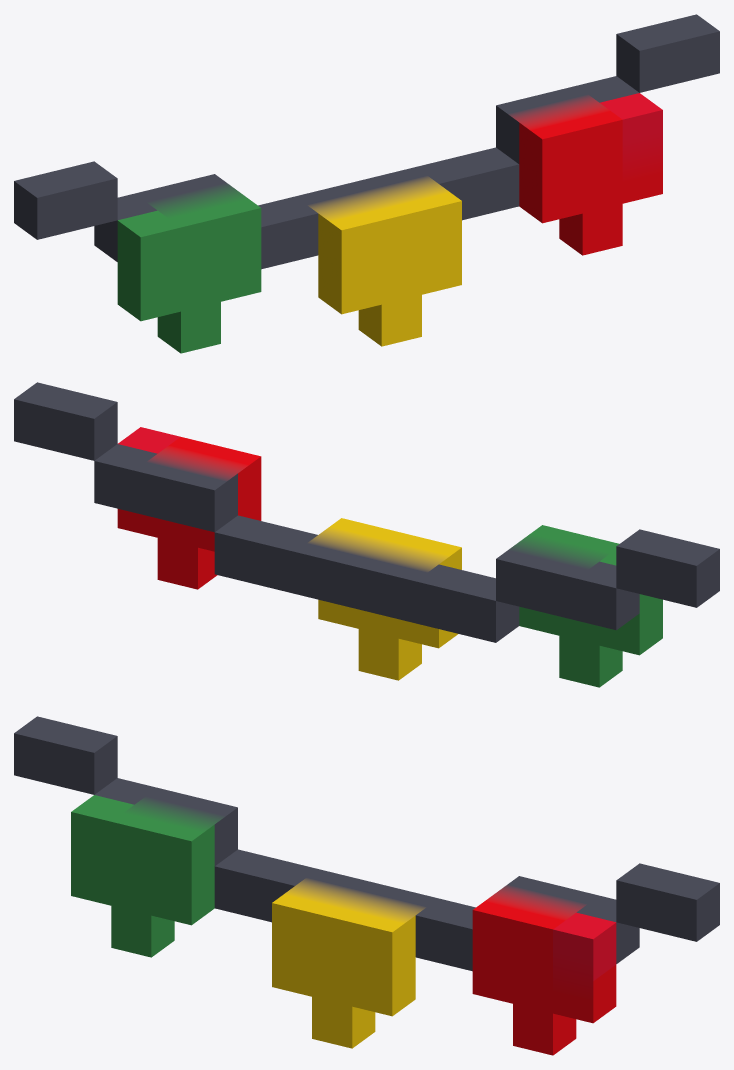
File: Market_Hangings-1.fbx
3 views of the same model, one above another, from view 1: azimuth 30°, elevation 25°; view 2: azimuth 150°, elevation 25°; view 3: azimuth 330°, elevation 25° (orthographic).
Parts seen in each view (by area): view 1: Market_Hangings_1; view 2: Market_Hangings_1; view 3: Market_Hangings_1.
Part boxes in pixels (<box>): Market_Hangings_1: <box>14,14,719,353</box>; Market_Hangings_1: <box>14,382,719,687</box>; Market_Hangings_1: <box>14,716,719,1055</box>.
Size of the model in its own units: 170 by 50 by 20.
Materials: 1 (1 with a texture image).
